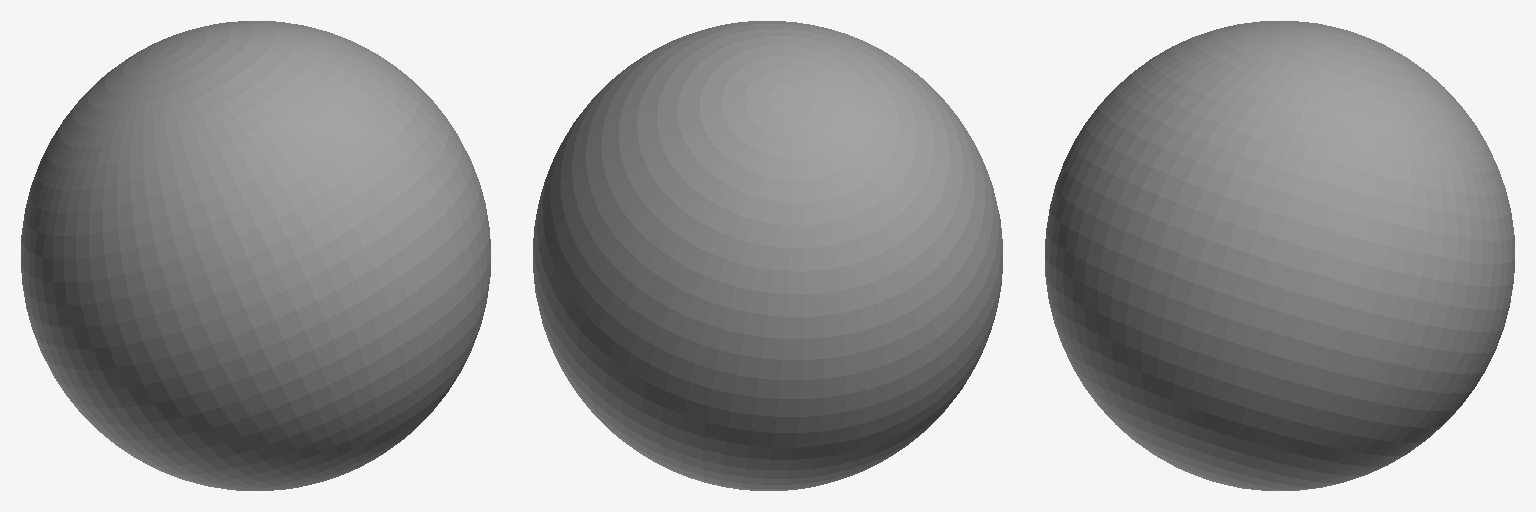
Rendered from earth.obj.
The picture shows the model from 3 angles: view 1: azimuth 30°, elevation 25°; view 2: azimuth 150°, elevation 25°; view 3: azimuth 270°, elevation 25°; orthographic projection.
Parts seen in each view (by area): view 1: Ceres_Sphere; view 2: Ceres_Sphere; view 3: Ceres_Sphere.
Boxes of the visible parts, x1,y1,x2,y2 form: Ceres_Sphere: [21, 21, 490, 490]; Ceres_Sphere: [533, 21, 1002, 490]; Ceres_Sphere: [1045, 21, 1514, 490].
Bounding box in the file's own units: 18.76 × 18.76 × 18.76.